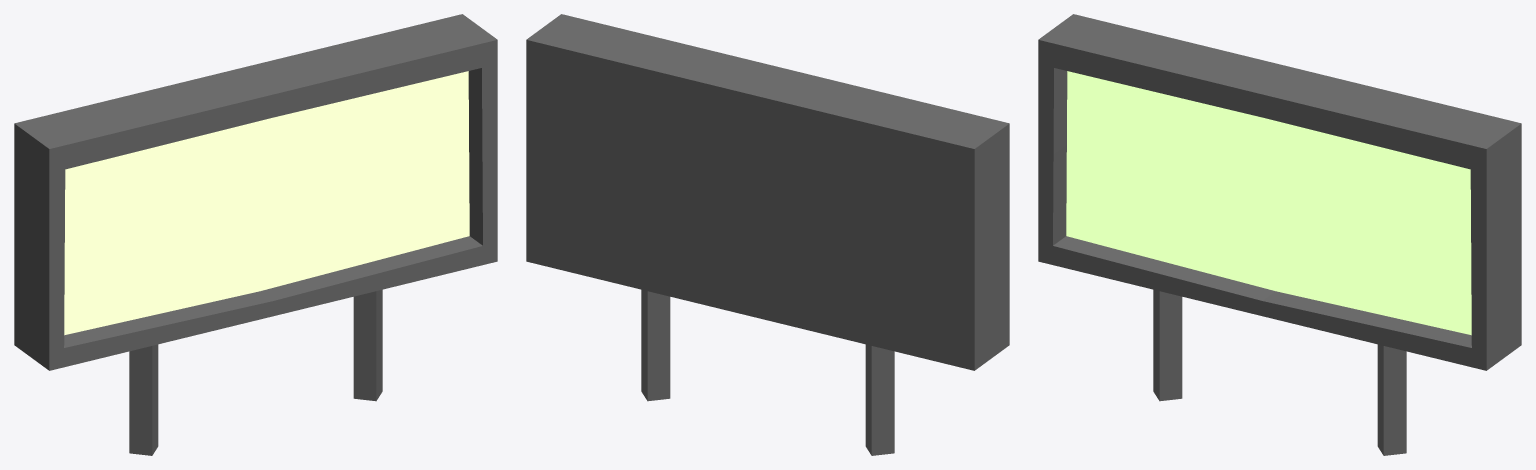
3 views of the same model, side by side, from view 1: azimuth 30°, elevation 25°; view 2: azimuth 150°, elevation 25°; view 3: azimuth 330°, elevation 25° (orthographic).
Visible parts, largest first — view 1: AboutMe; view 2: AboutMe; view 3: AboutMe.
Boxes of the visible parts, left/top/right/bottom form: AboutMe: left=14, top=14, right=497, bottom=455; AboutMe: left=526, top=14, right=1009, bottom=455; AboutMe: left=1038, top=14, right=1521, bottom=455.
Bounding box in the file's own units: 1.38 × 1 × 0.1875.
